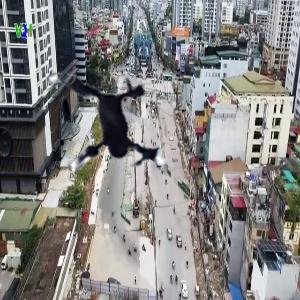drone: (16, 46, 189, 219)
